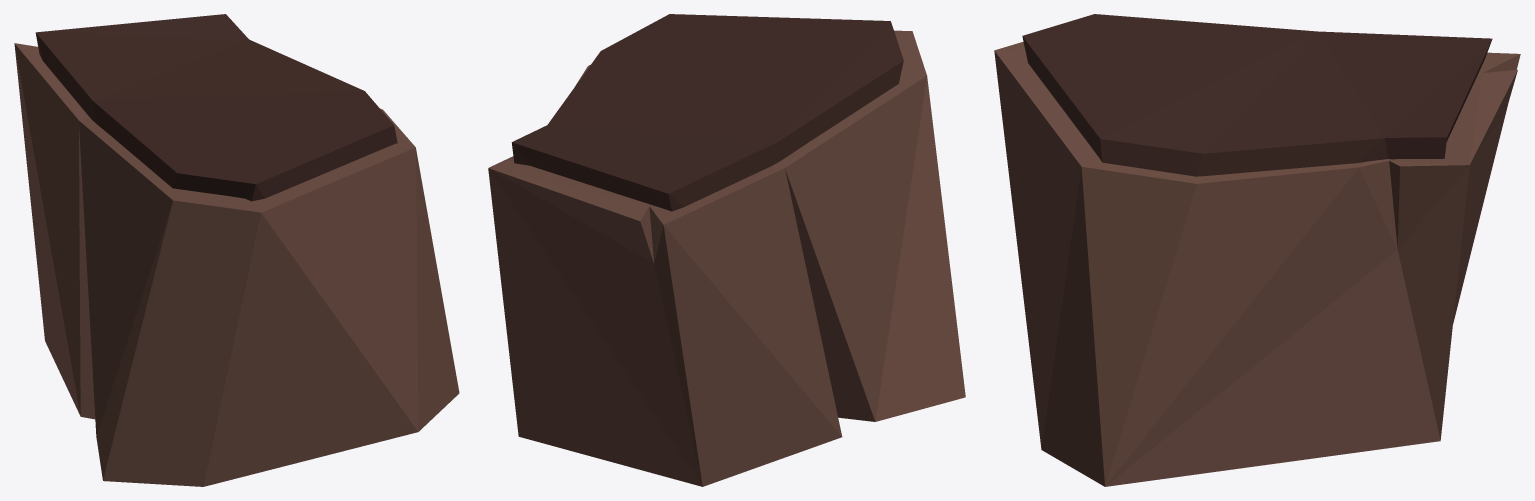
File: Brown_rock_006.fbx
3 views of the same model, side by side, from view 1: azimuth 30°, elevation 25°; view 2: azimuth 150°, elevation 25°; view 3: azimuth 270°, elevation 25° (orthographic). The views are drawn at different scales.
Parts seen in each view (by area): view 1: Brown_rock_006; view 2: Brown_rock_006; view 3: Brown_rock_006.
Part boxes in pixels (box(x1,y1,x2,y2)): Brown_rock_006: box(14, 14, 459, 486); Brown_rock_006: box(488, 14, 965, 486); Brown_rock_006: box(994, 14, 1520, 486).
Bounding box in the file's own units: 249 × 294 × 201.
